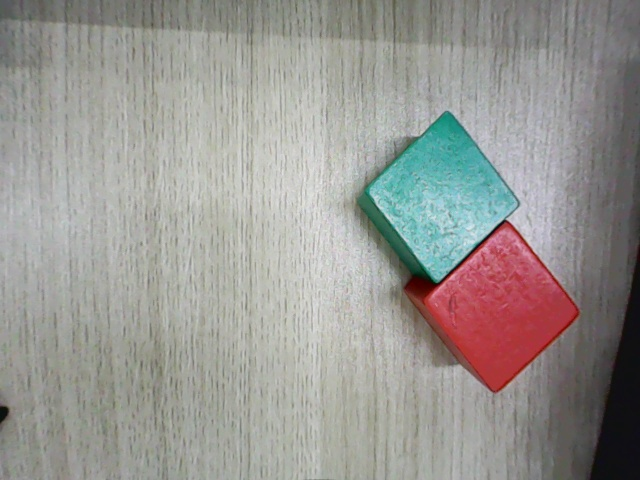upside of big cube: (364, 111, 521, 286), (425, 222, 580, 393)
